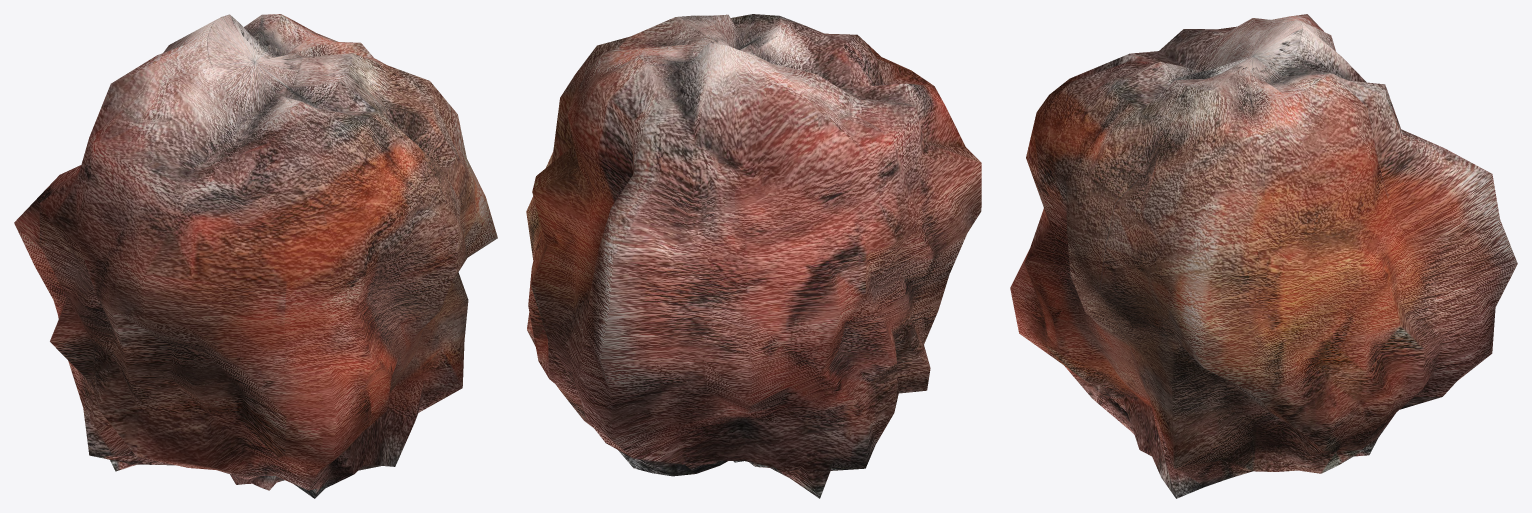
The model's file is asteroid1.obj.
The picture shows the model from 3 angles, left to right: view 1: azimuth 30°, elevation 25°; view 2: azimuth 150°, elevation 25°; view 3: azimuth 270°, elevation 25°; orthographic projection.
Visible parts, largest first — view 1: Sphere.005_Sphere.008; view 2: Sphere.005_Sphere.008; view 3: Sphere.005_Sphere.008.
Part boxes in pixels (x1=…): Sphere.005_Sphere.008: x1=14, y1=14, x2=497, y2=498; Sphere.005_Sphere.008: x1=526, y1=14, x2=981, y2=498; Sphere.005_Sphere.008: x1=1010, y1=14, x2=1517, y2=498.
Bounding box in the file's own units: 2.09 × 2.17 × 2.3.
Materials: 1 (1 with a texture image).
